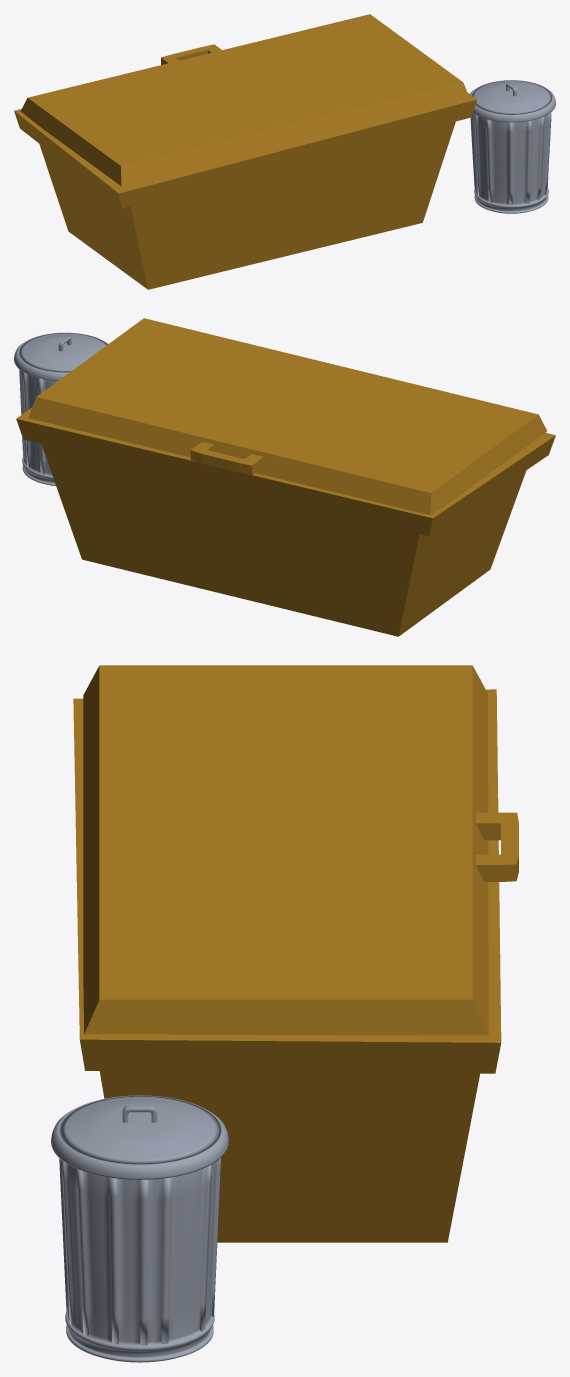
The model's file is Trash.fbx.
The picture shows the model from 3 angles, top to bottom: view 1: azimuth 30°, elevation 25°; view 2: azimuth 150°, elevation 25°; view 3: azimuth 270°, elevation 25°; orthographic projection. The views are drawn at different scales.
Parts seen in each view (by area): view 1: Cube.010, Circle.002; view 2: Cube.010, Circle.002; view 3: Cube.010, Circle.002.
Boxes of the visible parts, bbox=[...] form: Cube.010: bbox=[14, 14, 476, 289]; Circle.002: bbox=[470, 80, 555, 213]; Cube.010: bbox=[16, 318, 555, 636]; Circle.002: bbox=[14, 332, 108, 485]; Cube.010: bbox=[73, 665, 518, 1242]; Circle.002: bbox=[51, 1095, 228, 1362].
Size of the model in its own units: 572 by 169 by 259.
